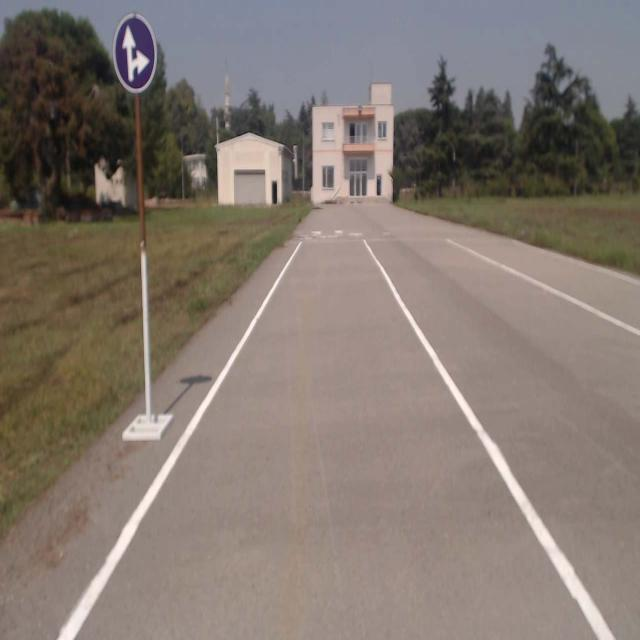ilerisag: (113, 15, 159, 94)
